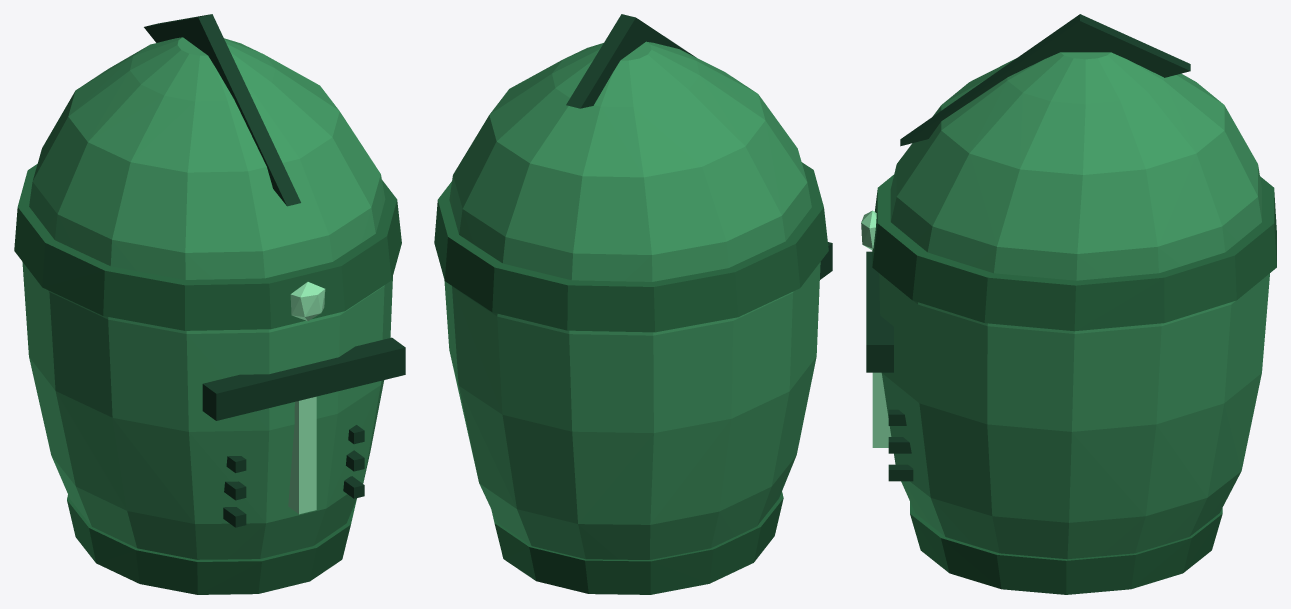
File: gear_adamant_fullhelm.glb
The picture shows the model from 3 angles, left to right: view 1: azimuth 30°, elevation 25°; view 2: azimuth 150°, elevation 25°; view 3: azimuth 270°, elevation 25°; orthographic projection.
Visible parts, largest first — view 1: gear_adamant_fullhelm; view 2: gear_adamant_fullhelm; view 3: gear_adamant_fullhelm.
Part boxes in pixels (x1,y1,x2,y2): gear_adamant_fullhelm: (14,14,405,594); gear_adamant_fullhelm: (434,14,832,594); gear_adamant_fullhelm: (861,14,1276,594).
Size of the model in its own units: 0.28 by 0.415 by 0.3006.
